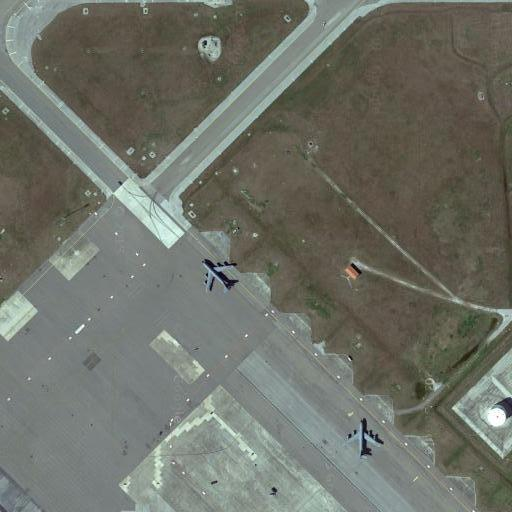KC-135: (340, 416, 386, 462), (198, 256, 242, 297)
